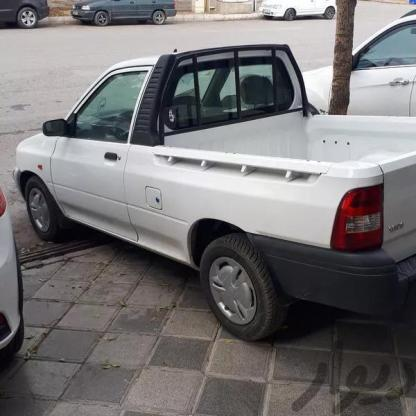Car: (0, 40, 416, 330), (290, 8, 416, 116), (72, 0, 191, 25), (0, 0, 56, 31), (256, 0, 346, 19)
